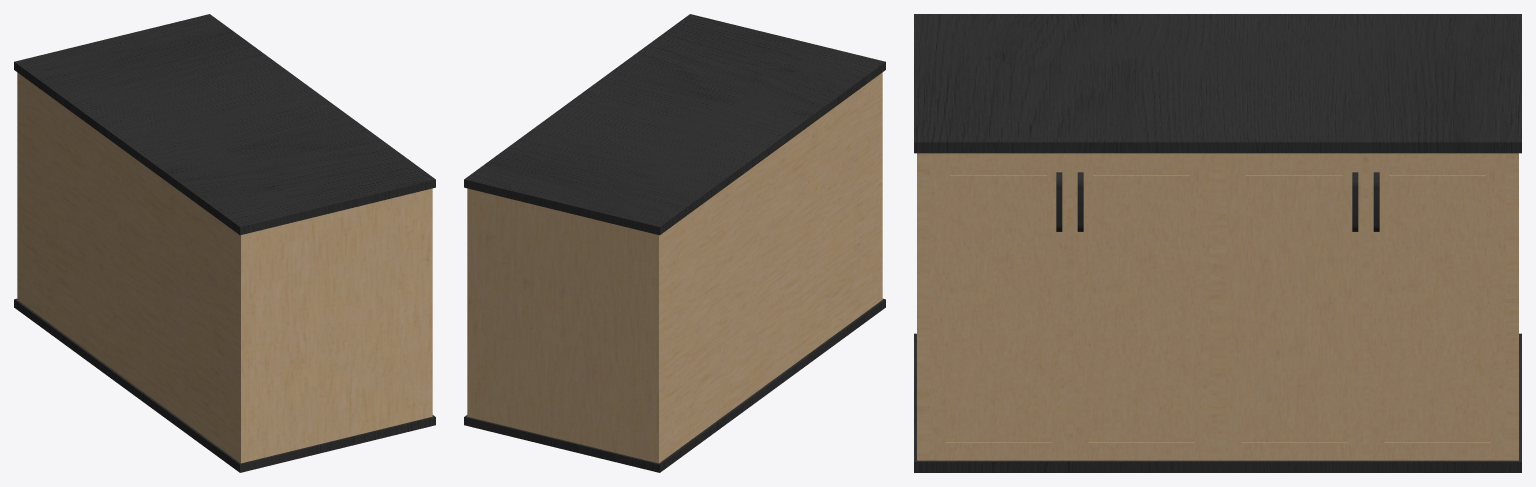
The model's file is double_stand.fbx.
3 renders of one model, left to right at view 1: azimuth 30°, elevation 25°; view 2: azimuth 150°, elevation 25°; view 3: azimuth 270°, elevation 25°, orthographic. The views are drawn at different scales.
Visible parts, largest first — view 1: double_stand; view 2: double_stand; view 3: double_stand, hatch_1, hatch_2, hatch_3, hatch_4.
Boxes of the visible parts, x1,y1,x2,y2 form: double_stand: (14, 14, 435, 472); double_stand: (464, 14, 885, 472); double_stand: (914, 14, 1521, 472); hatch_1: (930, 154, 1066, 458); hatch_2: (1073, 154, 1209, 458); hatch_3: (1226, 154, 1362, 458); hatch_4: (1369, 154, 1505, 458).
Size of the model in its own units: 102 by 120 by 200.
